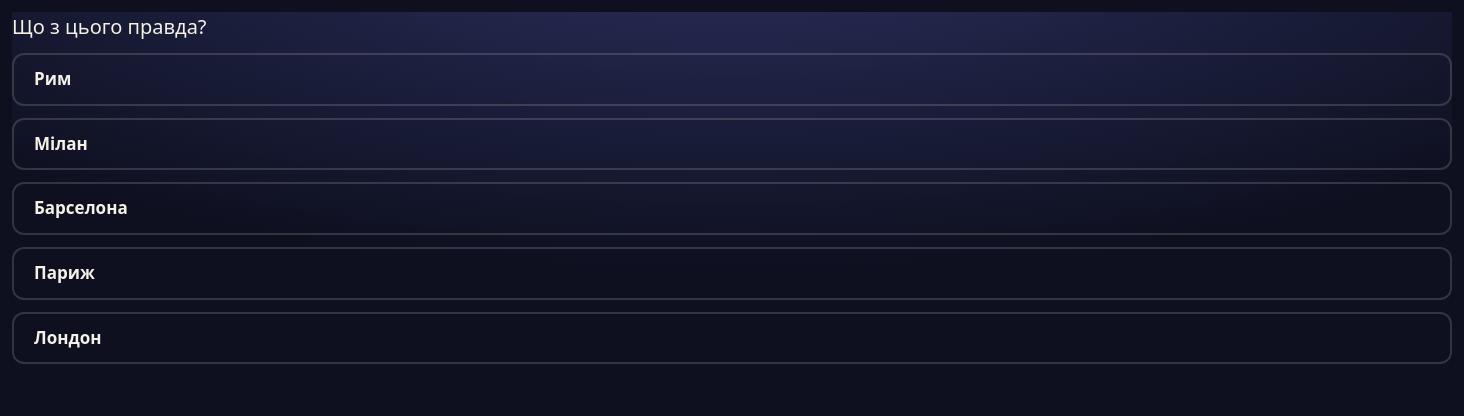
Scenario: BluffChoice › shows the ack error under the list
The width and height of the screenshot is (1464, 416).
Click the button "Рим": (53, 78) x1=12 y1=53 x2=1452 y2=106
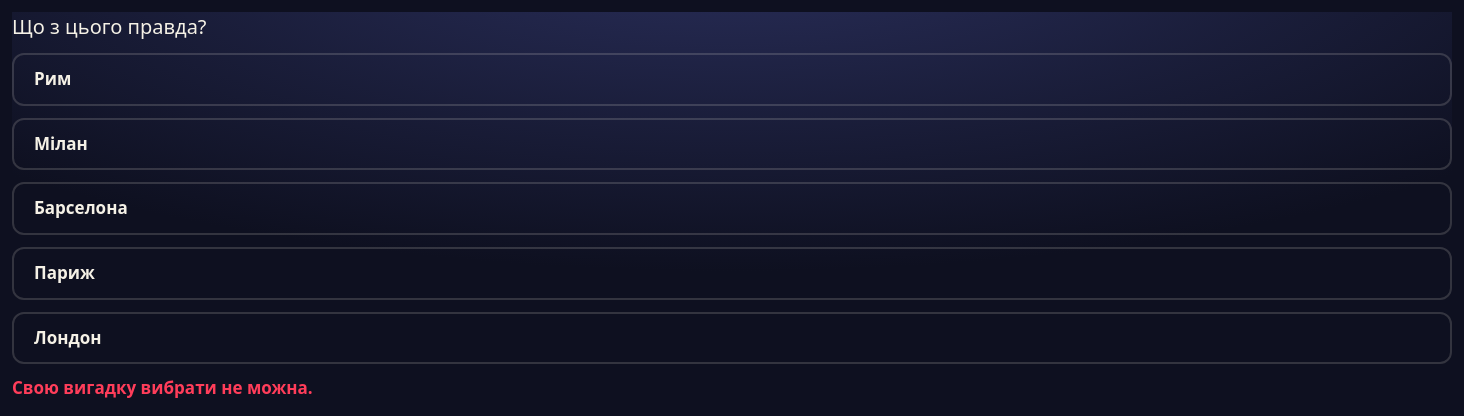
Expected: the message reads "Свою вигадку вибрати не можна.", x1=12 y1=376 x2=313 y2=399
